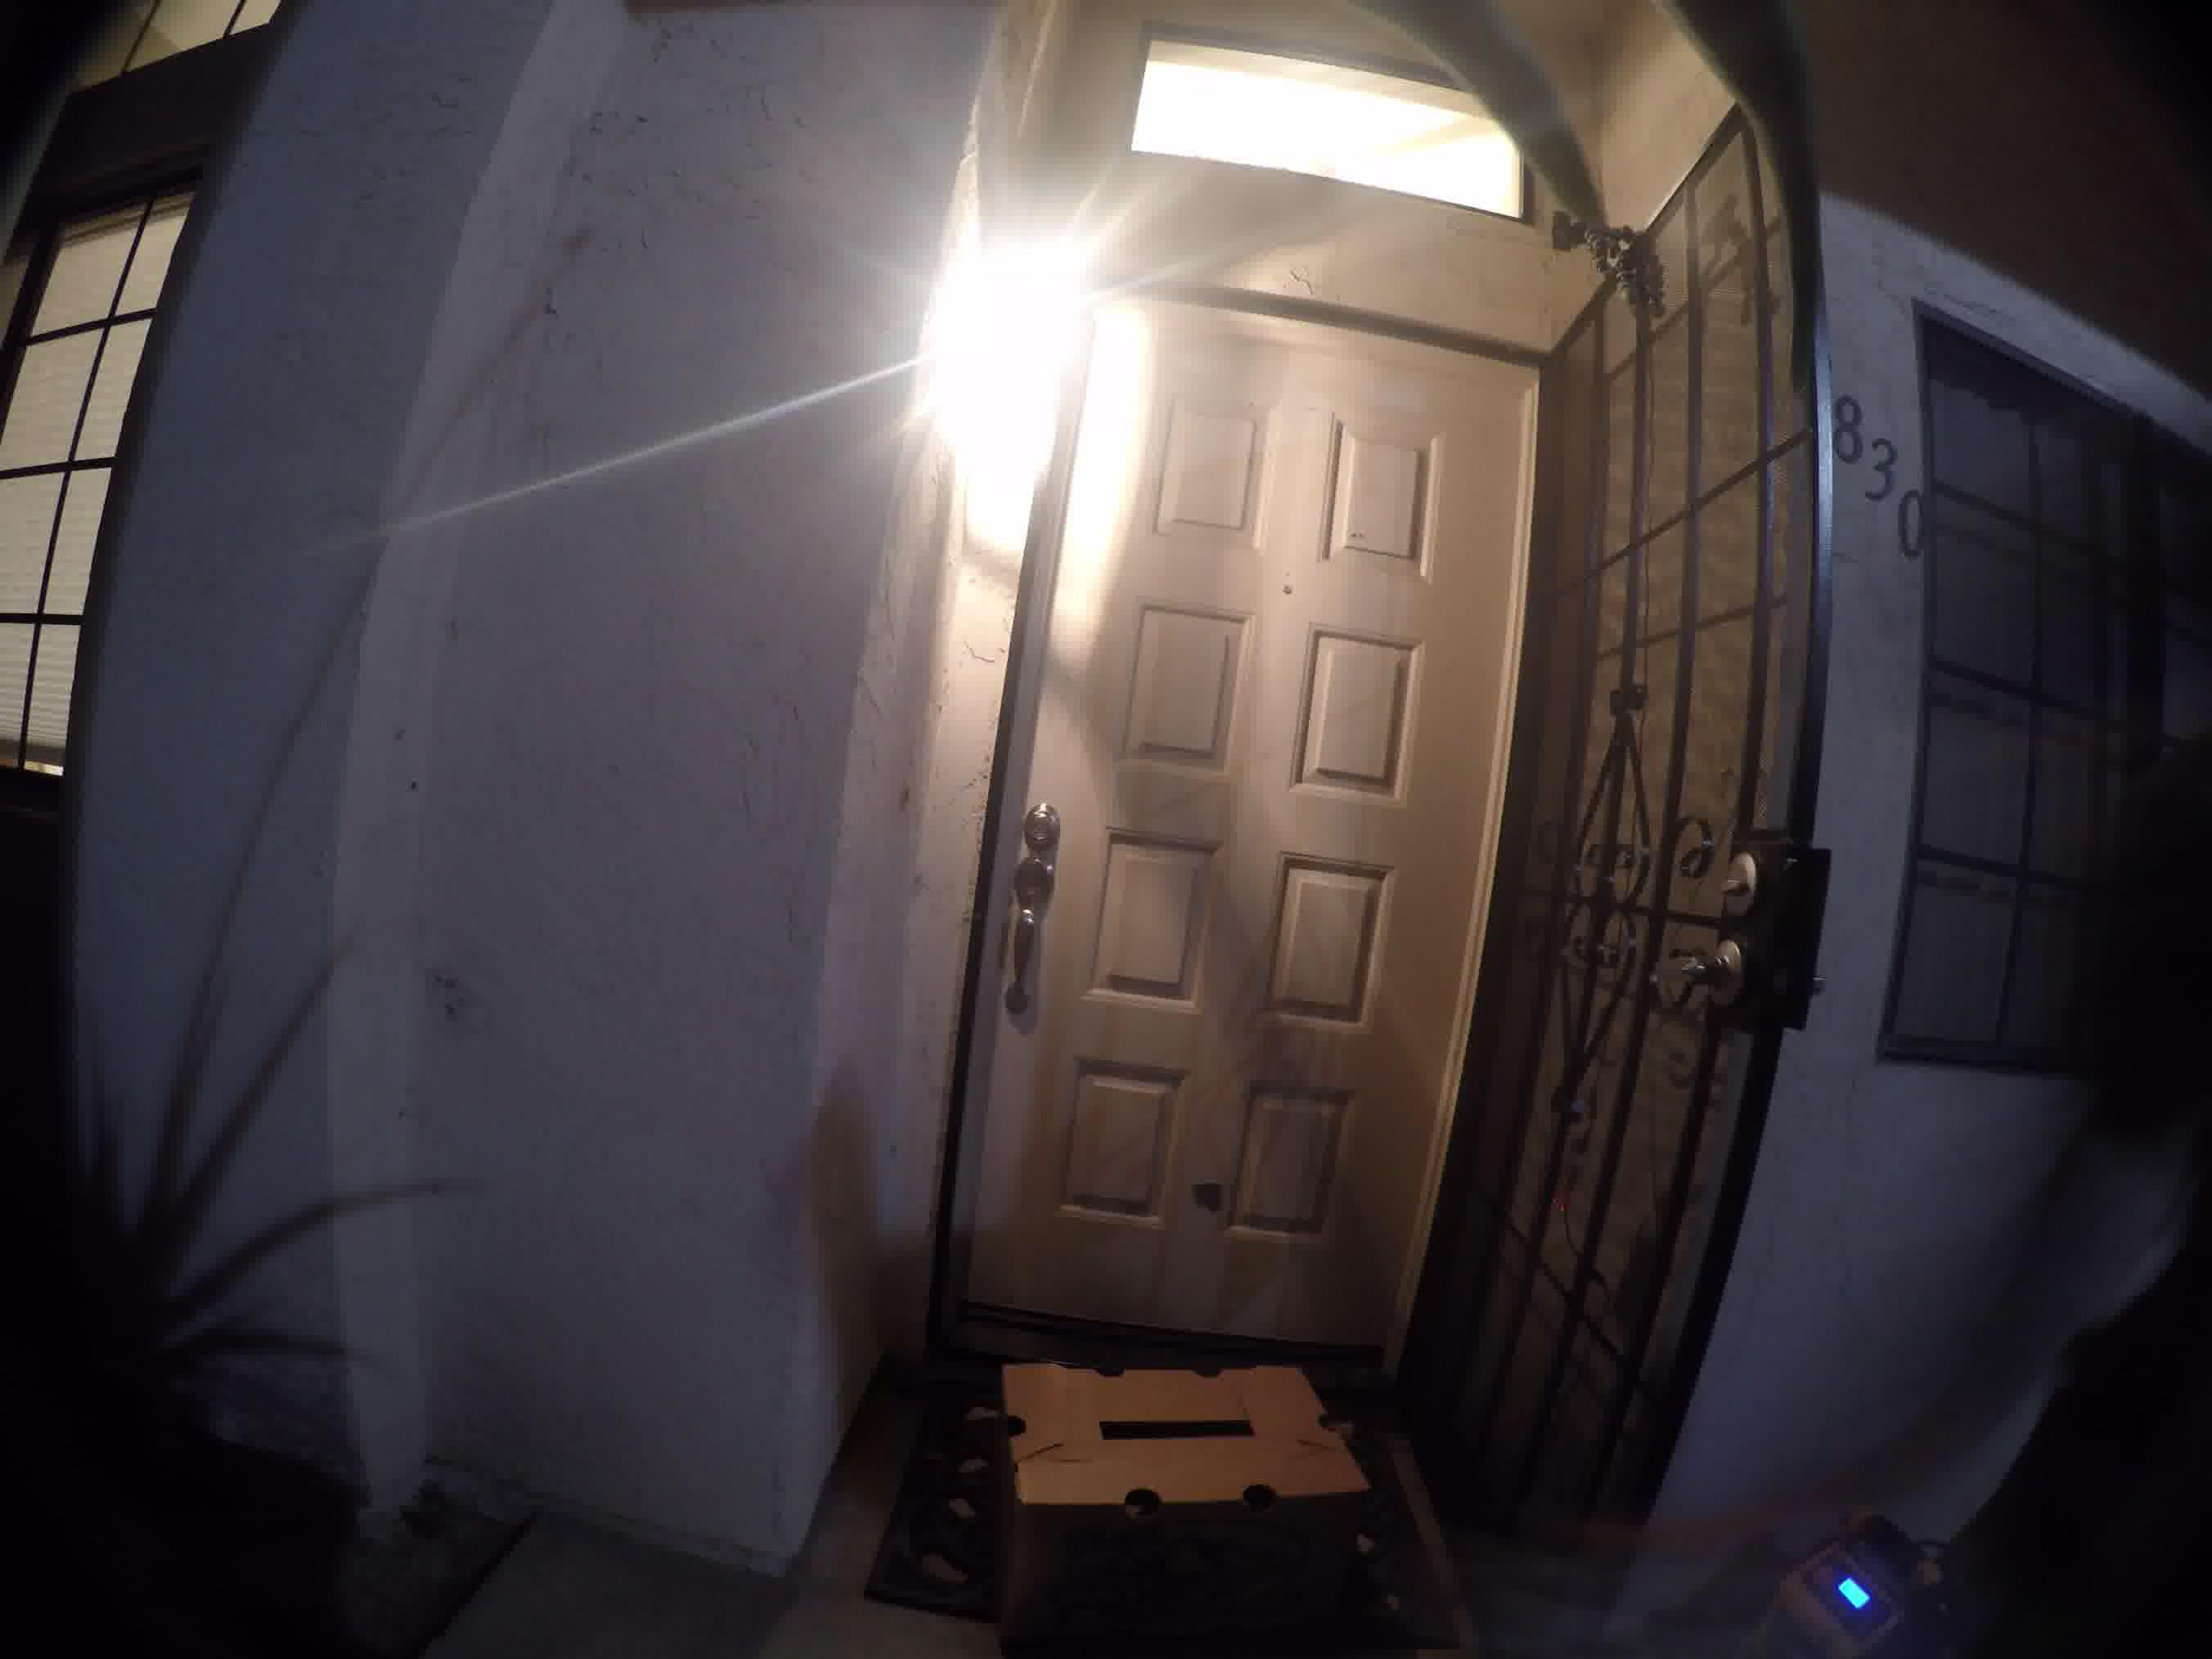box: (1001, 1354, 1366, 1640)
